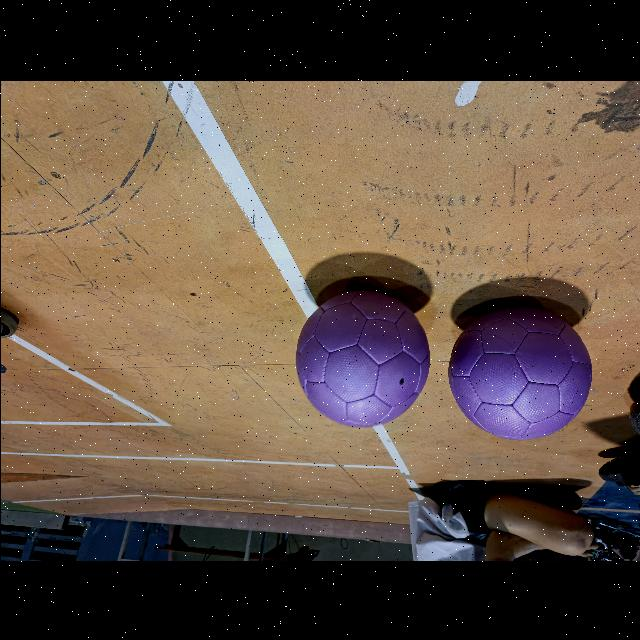P: (448, 307, 590, 439), (296, 290, 428, 426)
